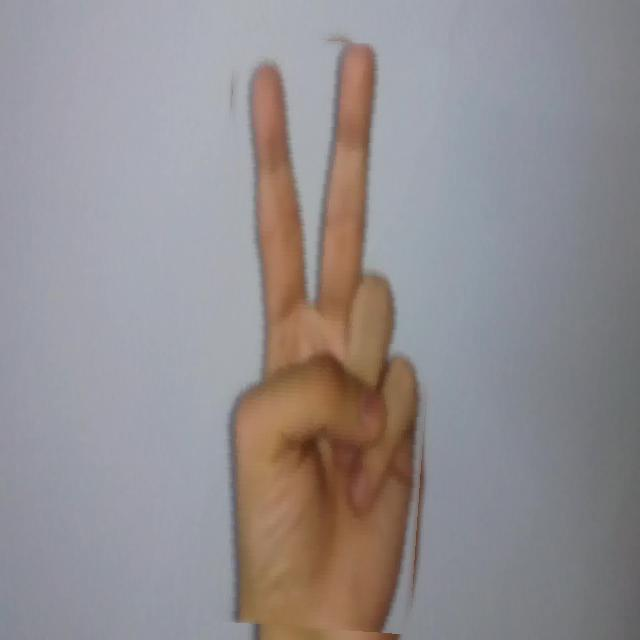V: (207, 38, 440, 631)
